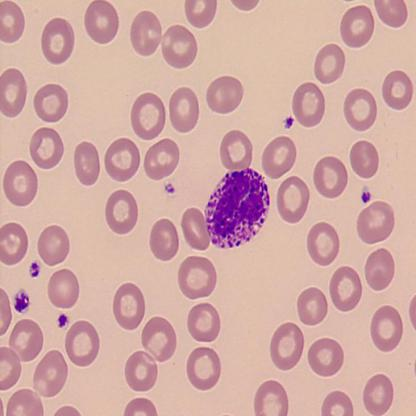Basophil: (202, 164, 272, 250)
